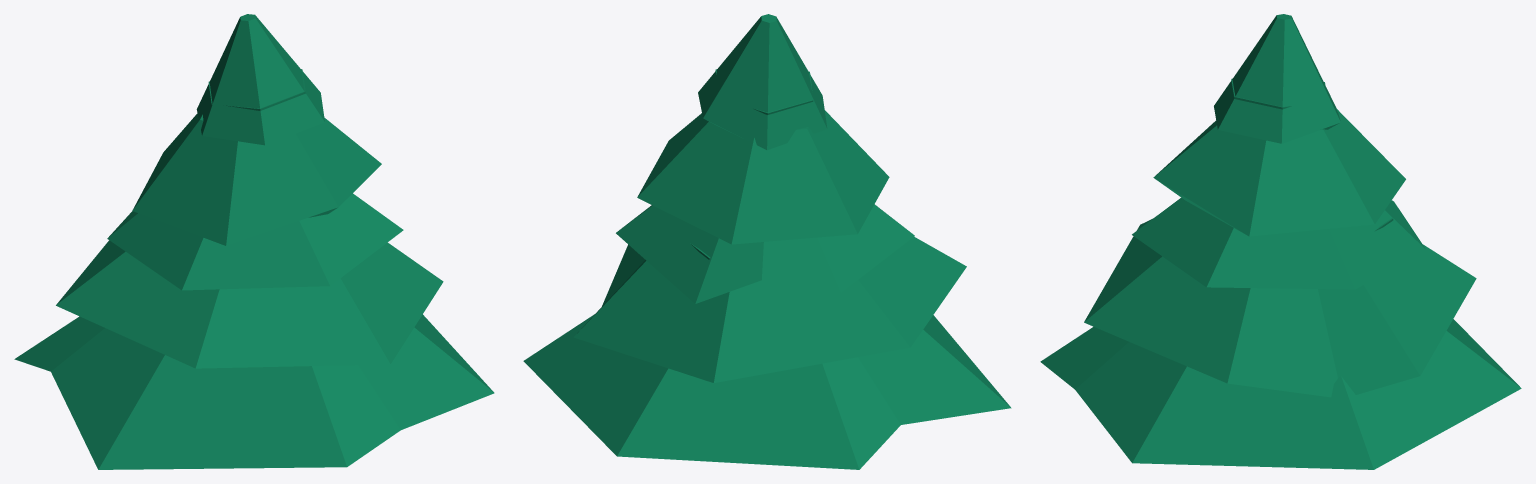
Rendered from Week12 TreeMed.fbx.
3 views of the same model, side by side, from view 1: azimuth 30°, elevation 25°; view 2: azimuth 150°, elevation 25°; view 3: azimuth 270°, elevation 25° (orthographic).
Parts seen in each view (by area): view 1: Cylinder.014, Cylinder.015, Cylinder.017, Cylinder.016, Cylinder.018; view 2: Cylinder.014, Cylinder.015, Cylinder.017, Cylinder.016, Cylinder.018; view 3: Cylinder.014, Cylinder.015, Cylinder.017, Cylinder.016, Cylinder.018.
Part boxes in pixels (left/top/right/bottom): Cylinder.014: left=14, top=314, right=494, bottom=469; Cylinder.015: left=56, top=240, right=443, bottom=368; Cylinder.017: left=132, top=113, right=381, bottom=245; Cylinder.016: left=107, top=193, right=403, bottom=290; Cylinder.018: left=196, top=14, right=324, bottom=145; Cylinder.014: left=523, top=314, right=1011, bottom=469; Cylinder.015: left=573, top=236, right=966, bottom=382; Cylinder.017: left=637, top=110, right=889, bottom=244; Cylinder.016: left=616, top=204, right=914, bottom=303; Cylinder.018: left=698, top=14, right=827, bottom=150; Cylinder.014: left=1040, top=319, right=1521, bottom=469; Cylinder.015: left=1084, top=219, right=1476, bottom=397; Cylinder.017: left=1153, top=108, right=1405, bottom=236; Cylinder.016: left=1132, top=197, right=1425, bottom=289; Cylinder.018: left=1214, top=14, right=1340, bottom=143.
Size of the model in its own units: 955 by 946 by 1009.
